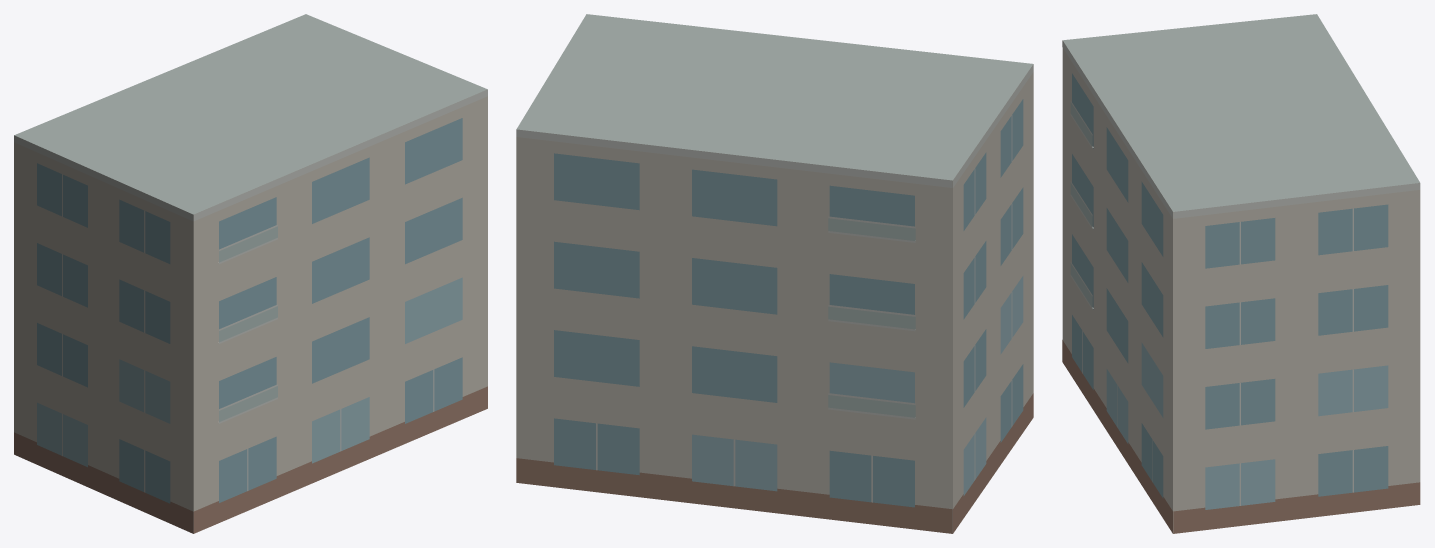
The model's file is survey-upis-33042918.glb.
3 renders of one model, left to right at view 1: azimuth 30°, elevation 25°; view 2: azimuth 150°, elevation 25°; view 3: azimuth 270°, elevation 25°, orthographic. The views are drawn at different scales.
Parts seen in each view (by area): view 1: survey-upis-33042918.tmp; view 2: survey-upis-33042918.tmp; view 3: survey-upis-33042918.tmp.
Boxes of the visible parts, x1,y1,x2,y2 form: survey-upis-33042918.tmp: (14,14,487,533); survey-upis-33042918.tmp: (516,14,1033,533); survey-upis-33042918.tmp: (1062,14,1420,533).
Bounding box in the file's own units: 14.91 × 11.3 × 11.39.
